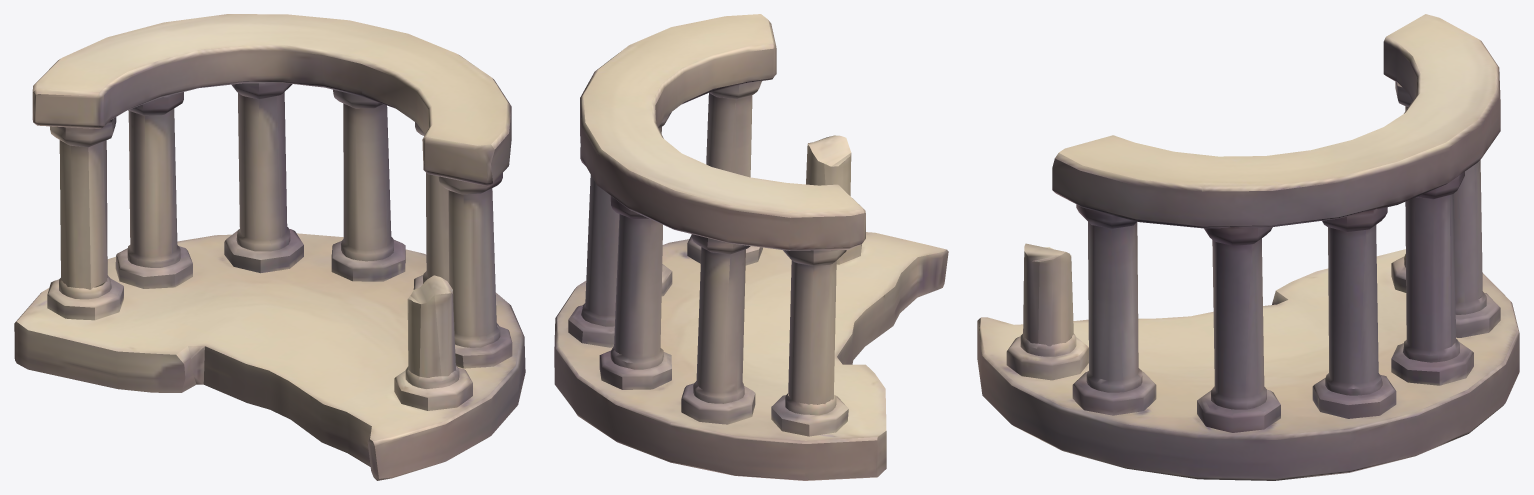
Rendered from SM_RuinColonnade_01.fbx.
3 renders of one model, left to right at view 1: azimuth 30°, elevation 25°; view 2: azimuth 150°, elevation 25°; view 3: azimuth 270°, elevation 25°, orthographic. The views are drawn at different scales.
Parts seen in each view (by area): view 1: SM_RuinColonnade_01; view 2: SM_RuinColonnade_01; view 3: SM_RuinColonnade_01.
Boxes of the visible parts, left/top/right/bottom form: SM_RuinColonnade_01: left=14, top=14, right=525, bottom=480; SM_RuinColonnade_01: left=554, top=14, right=948, bottom=480; SM_RuinColonnade_01: left=977, top=14, right=1519, bottom=480.
Bounding box in the file's own units: 66.19 × 45.14 × 76.18.
1 material, 1 textured.
